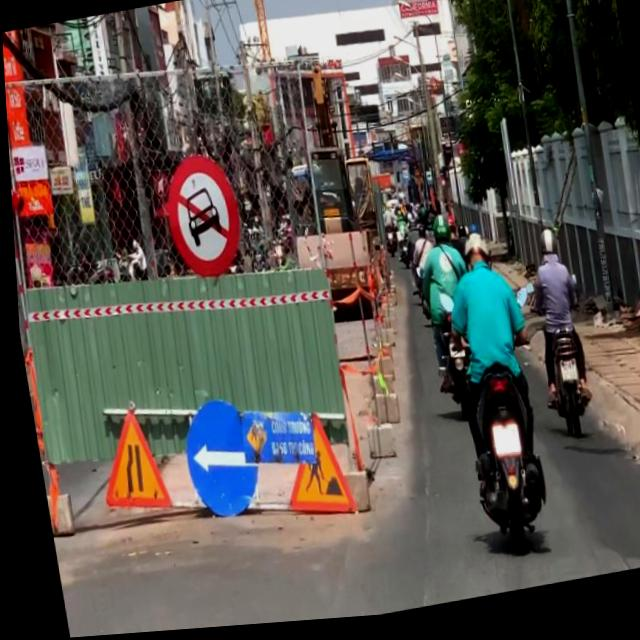Cac xe chi duoc re trai: (171, 395, 260, 528)
Cam xe oto: (156, 149, 246, 288)
